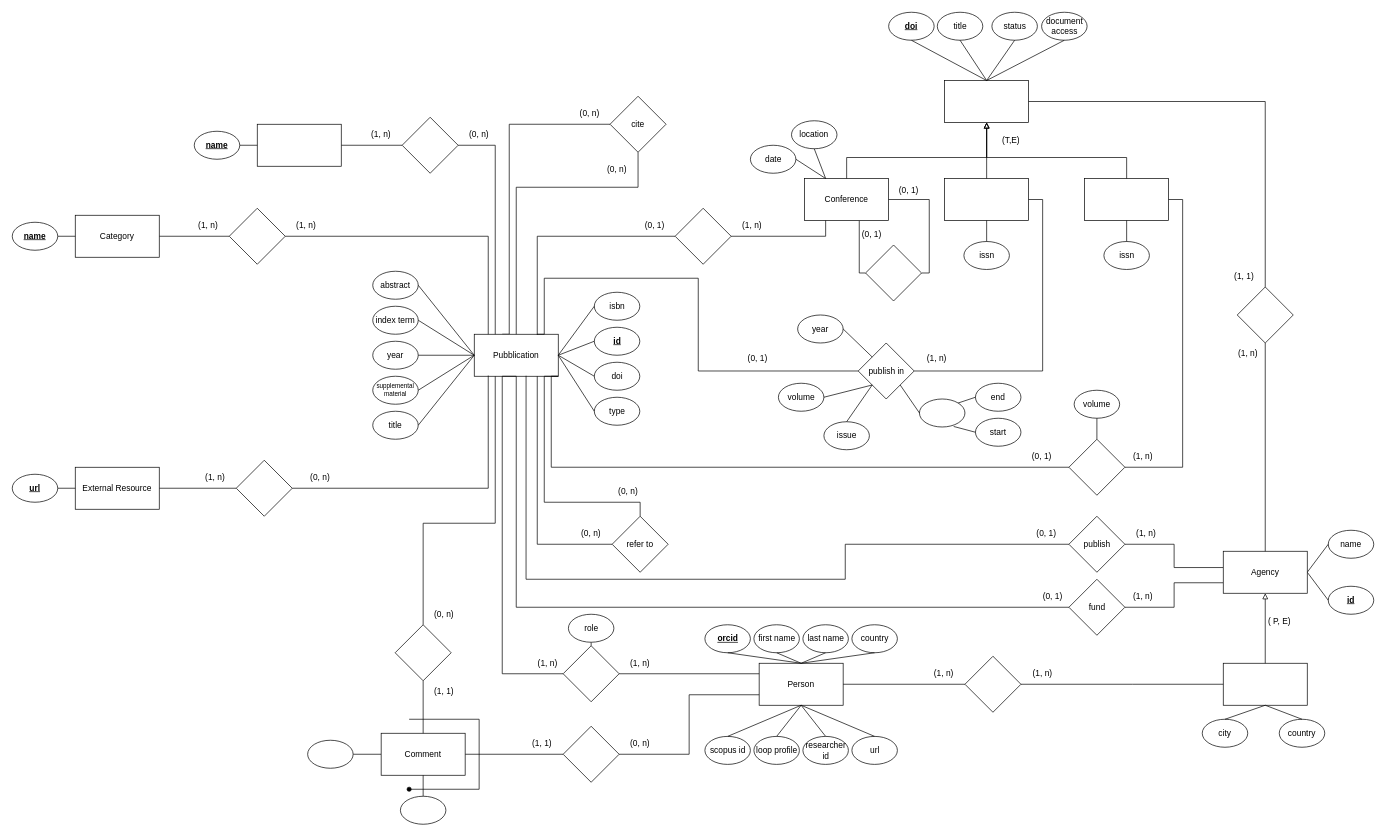
This 1386x837 diagram has some shape labels left out. The centre of each missing label's shape, as x and y in pixels:
affiliate to: [992,684]
belong to: [257,236]
contain of: [429,145]
contribute to: [590,673]
have: [264,488]
in: [1096,467]
include in: [422,652]
Journal: [986,199]
Keyword: [299,145]
Organization: [1265,684]
pages: [942,412]
part of: [702,236]
publish by: [1265,314]
Series: [1126,199]
successor: [893,272]
text: [330,754]
timestamp: [423,810]
Venue: [986,101]
write: [590,754]
